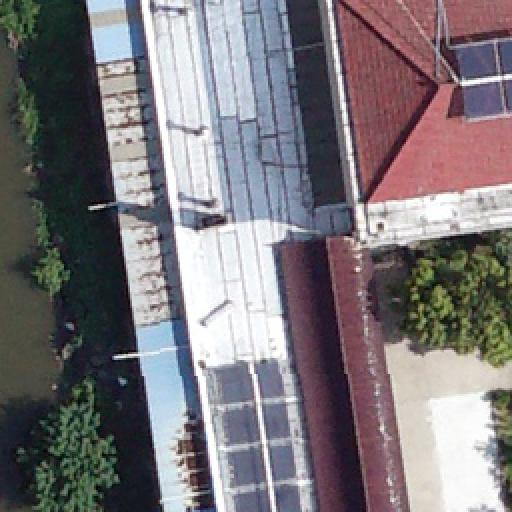solar-panel: (455, 39, 505, 121), (497, 37, 511, 115)
